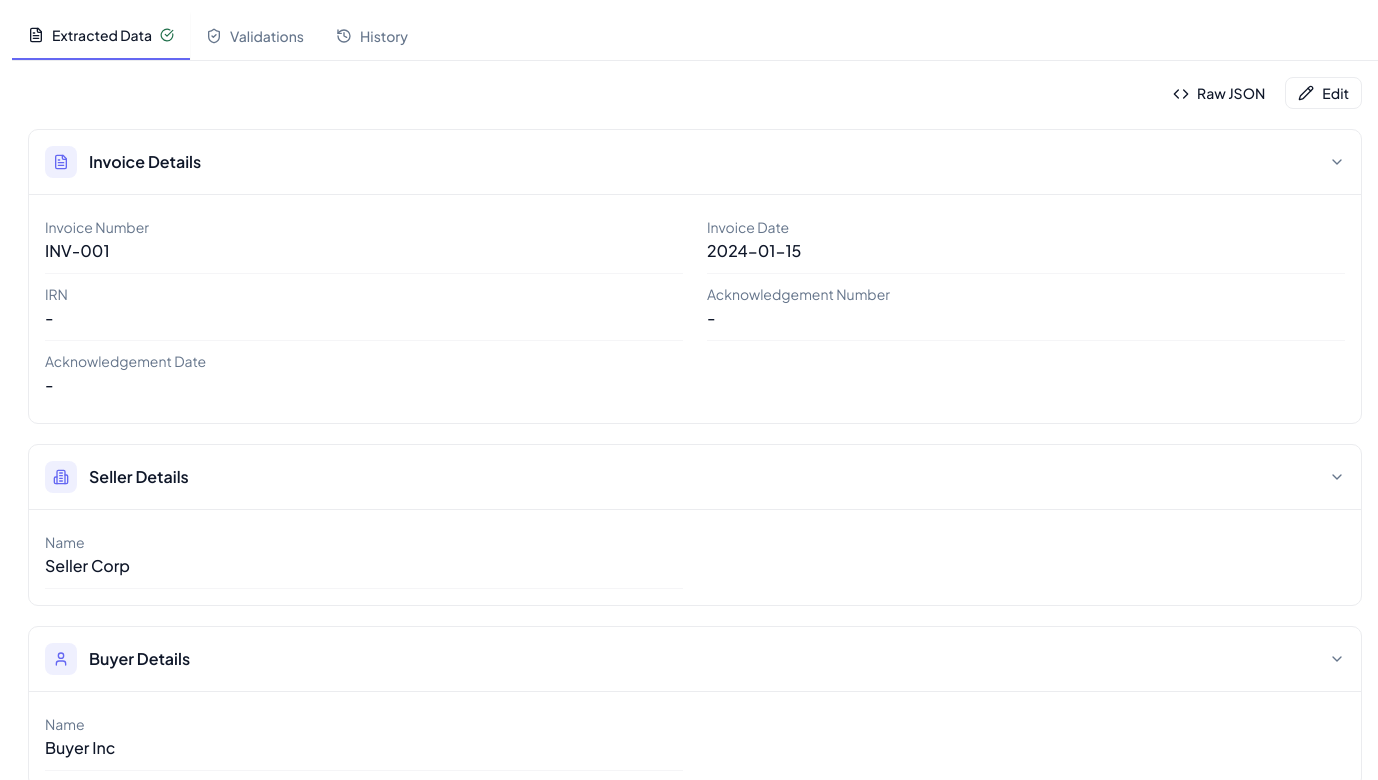
Test: DocumentTabs › saving › exits edit mode after successful save
Click the button "Edit". click: point(1324, 93)
box: top-left (1285, 77), bottom-right (1362, 109)
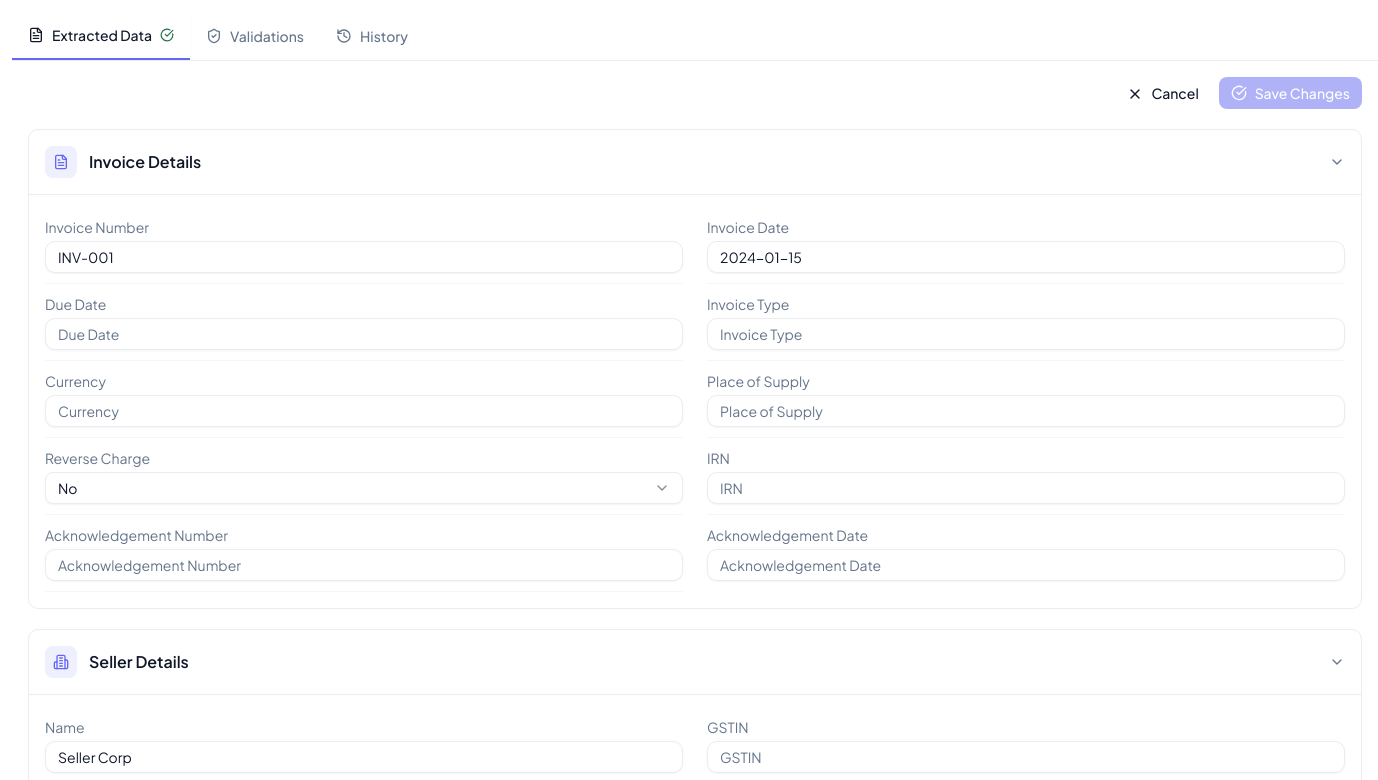
Replace the text in the field with placeholder "Invoice Number" below "Invoice Number" with "INV-999". click: point(364, 257)
box: top-left (45, 241), bottom-right (683, 273)
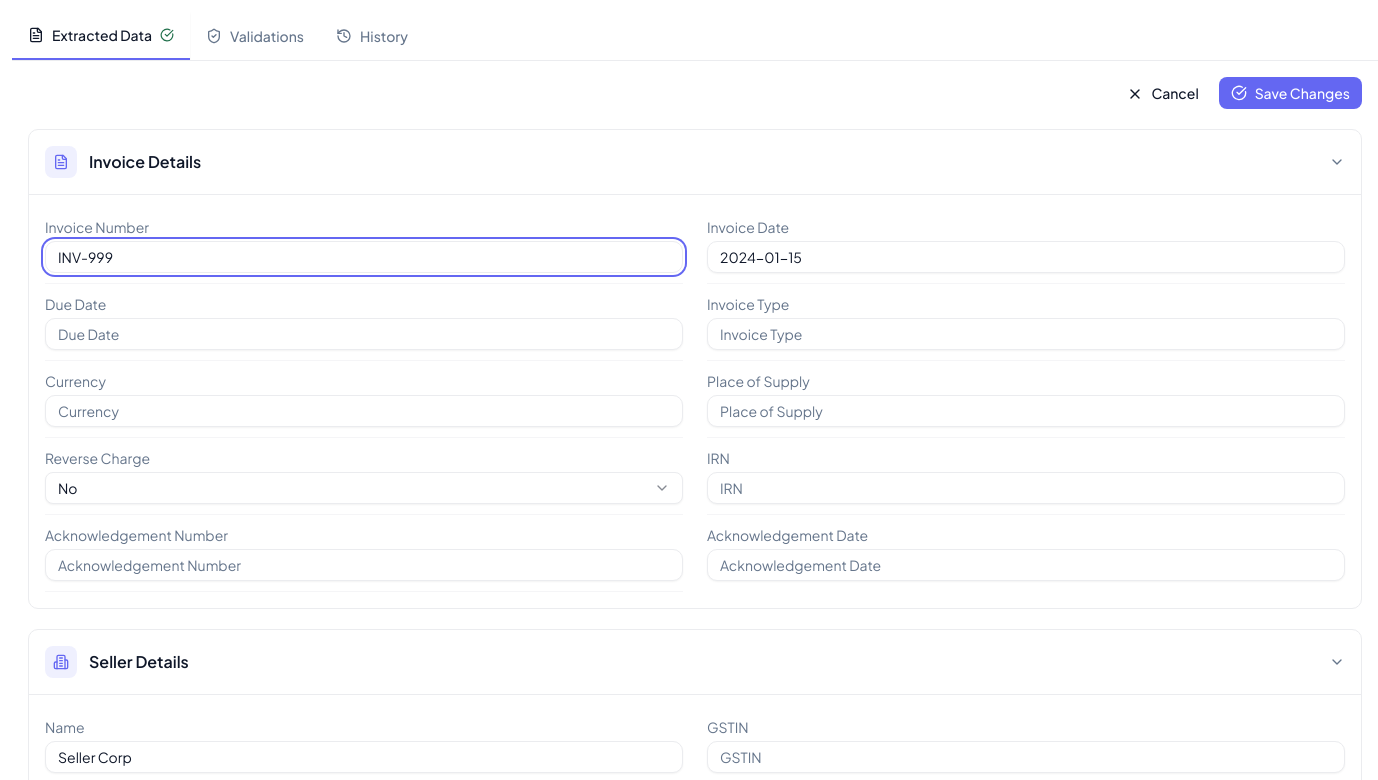
Click the button "Save Changes". click: point(1290, 93)
box: top-left (1219, 77), bottom-right (1362, 109)
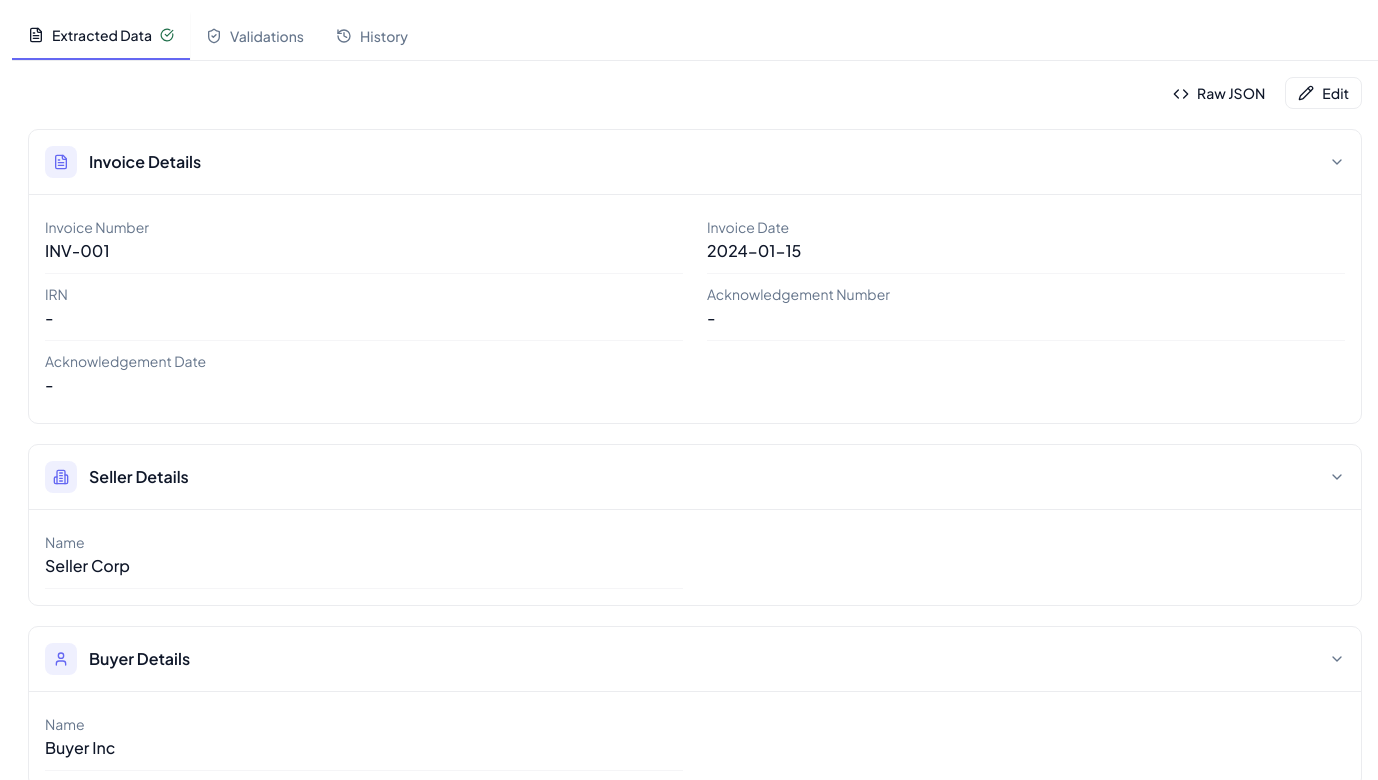
Check: the button "Edit" is shown, box top-left (1285, 77), bottom-right (1362, 109)
